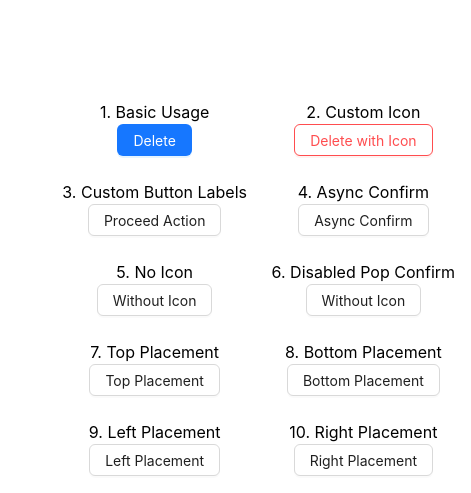
Scenario: PopConfirm Showcase › Basic Functionality › should render and show basic popconfirm with title
The width and height of the screenshot is (471, 493).
Click the button with test id "basic" at (154, 140), box [117,124,191,156]
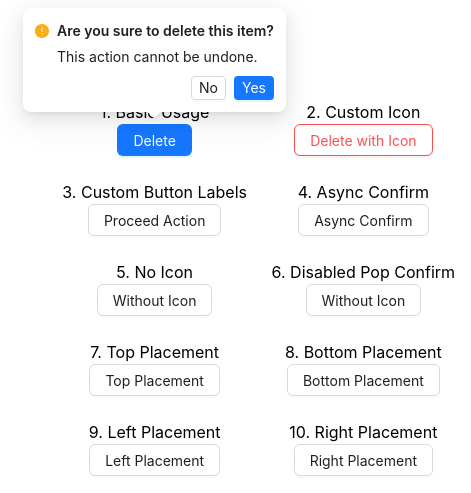
Now the text "Are you sure to delete this item?" is shown, box [57,20,274,42]
